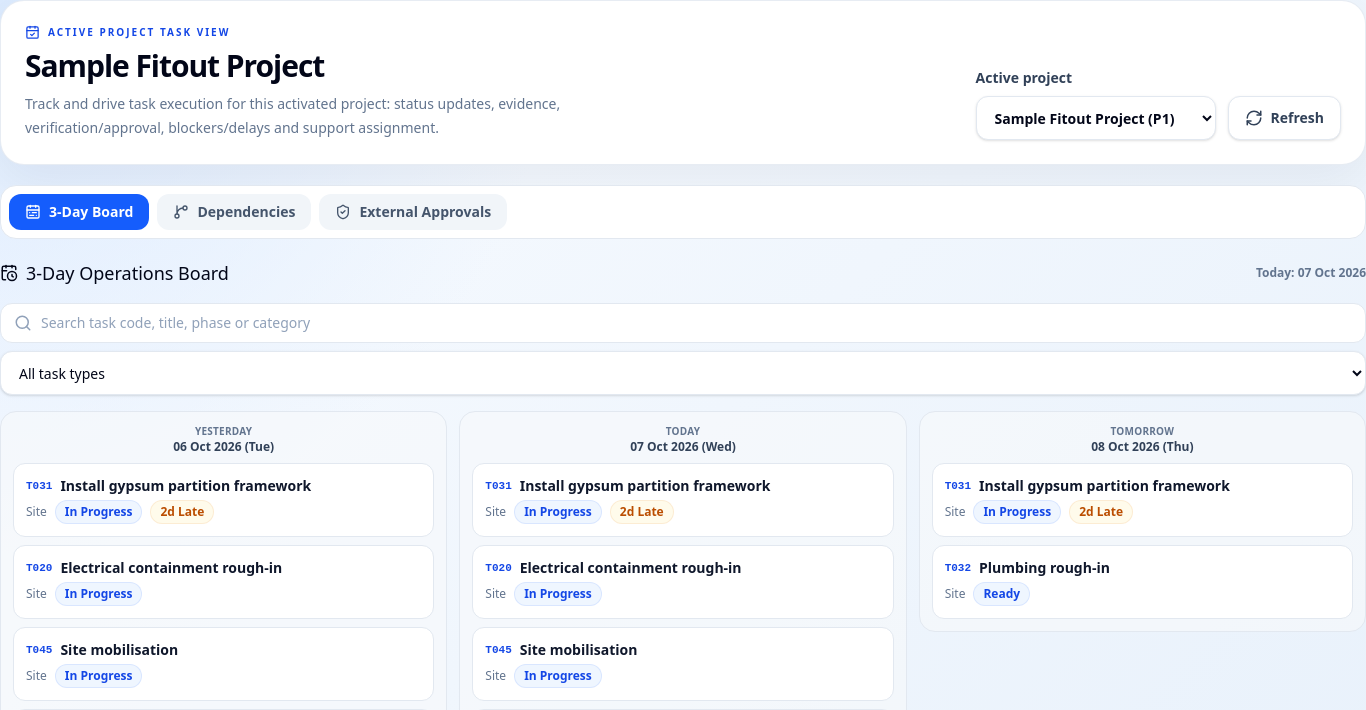
Test: ExecutionPage smoke - realistic mixed task shapes render without throwing › renders the 3-Day Operations Board for a Supervisor and opens a task
Expected: the heading "3-Day Operations Board" is shown, [0, 259, 229, 287]
Click the text "Install gypsum partition framework" below "06 Oct 2026 (Tue)" at coordinates (186, 486), box [60, 476, 311, 495]
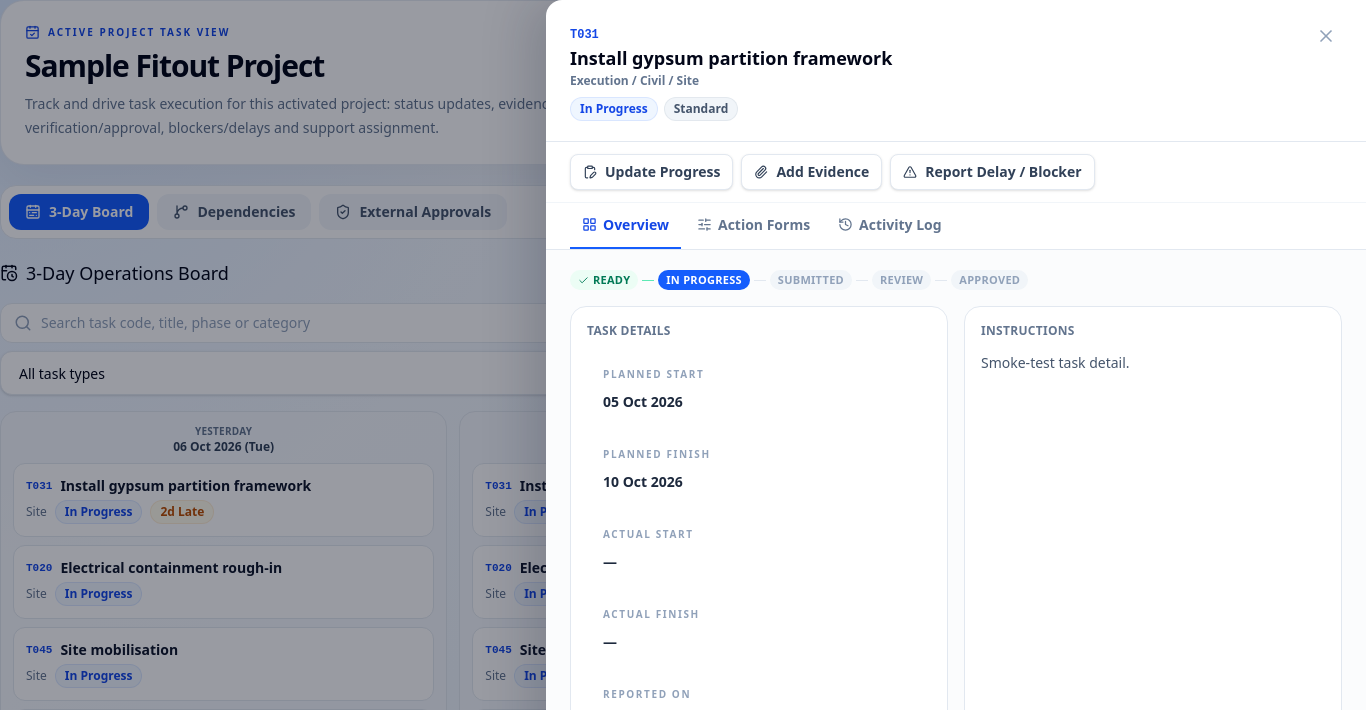
Expected: the text "Smoke-test task detail." is shown, [981, 353, 1130, 372]
